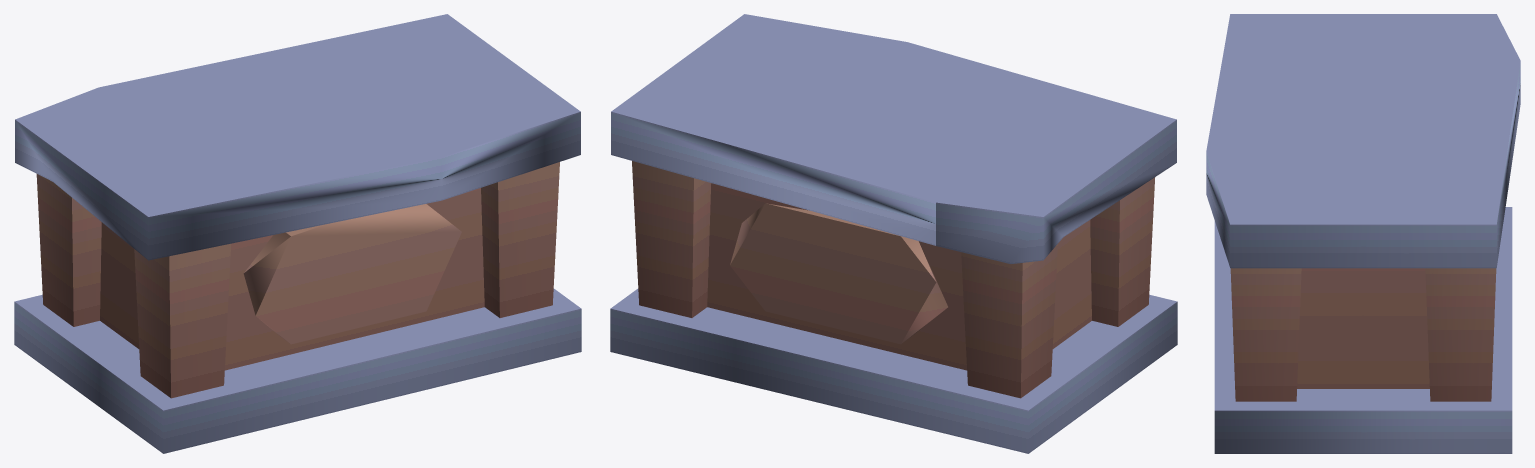
Rendered from altar-wood.glb.
3 views of the same model, side by side, from view 1: azimuth 30°, elevation 25°; view 2: azimuth 150°, elevation 25°; view 3: azimuth 270°, elevation 25° (orthographic).
Parts seen in each view (by area): view 1: altar-wood; view 2: altar-wood; view 3: altar-wood.
Part boxes in pixels (box(x1,y1,x2,y2)): altar-wood: box(14, 14, 581, 453); altar-wood: box(610, 14, 1177, 453); altar-wood: box(1206, 14, 1520, 453).
Size of the model in its own units: 1.05 by 0.5379 by 0.6586.
Materials: 1 (1 with a texture image).
